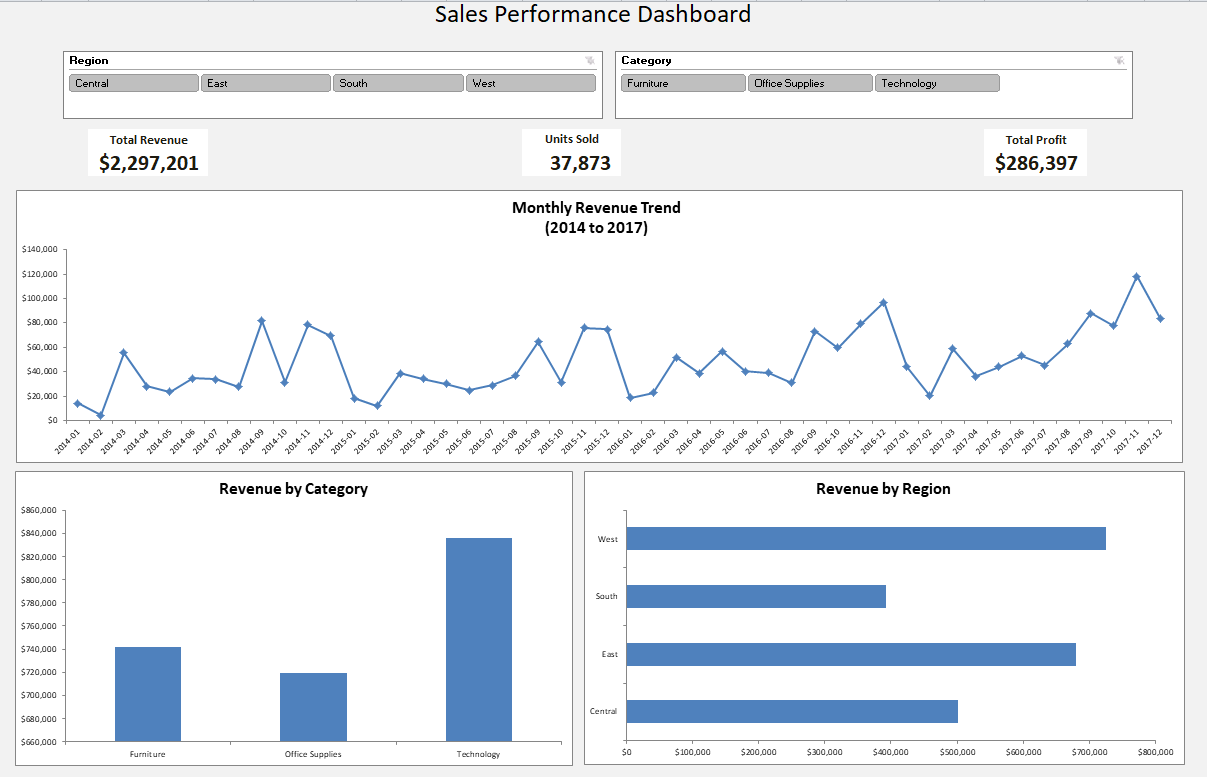

The dashboard page shown, as its layout file describes it:
{"tool":"powerbi","page":{"name":"Overview","canvas":[1920,1080],"ordinal":0},"visuals":[{"type":"textbox","box":[0,0,993,63.9],"z":0},{"type":"cardVisual","fields":{"Data":["_Measures.Total Revenue"]},"box":[254.4,98.9,250,250],"z":1000},{"type":"cardVisual","fields":{"Data":["_Measures.Total Profit"]},"box":[508.9,98.9,250,250],"z":2000},{"type":"cardVisual","fields":{"Data":["_Measures.Customers"]},"box":[1272.1,98.9,256.4,250.6],"z":3000},{"type":"cardVisual","fields":{"Data":["_Measures.Profit Margin %"]},"box":[763.3,98.9,250,250],"z":4000},{"type":"cardVisual","fields":{"Data":["_Measures.Orders"]},"box":[1017.7,98.9,250,250],"z":5000},{"type":"cardVisual","fields":{"Data":["_Measures.Avg Order Value"]},"box":[0,98.9,250,250],"z":6000},{"type":"clusteredBarChart","title":"Sales by Region","fields":{"Category":["dim_location.region"],"Y":["_Measures.Total Revenue"]},"box":[0,720.9,1144.9,358.1],"z":7000},{"type":"clusteredBarChart","title":"Top 10 Products","fields":{"Category":["dim_product.product_name"],"Y":["_Measures.Total Revenue"]},"box":[1147.3,351,772.7,728],"z":8000},{"type":"slicer","fields":{"Values":["dim_product.category"]},"box":[1580.8,197.9,301.5,73],"z":9000},{"type":"slicer","fields":{"Values":["dim_date.year"]},"box":[1580.8,117.8,299.2,73],"z":10000},{"type":"slicer","fields":{"Values":["dim_customer.segment"]},"box":[1580.8,280.3,299.2,70.7],"z":11000},{"type":"slicer","fields":{"Values":["dim_location.region"]},"box":[1580.8,28.3,299.2,70.7],"z":12000},{"type":"lineChart","title":"Monthly revenue and profit","fields":{"Category":["dim_date.year_month"],"Y":["_Measures.Total Revenue","_Measures.Total Profit"]},"box":[0,351,1144.9,358.1],"z":13000}]}

Visuals, with their boxes on the page's 1920x1080 design canvas (x1, y1, x2, y2). These are canvas units, not pixel positions in the 1207x777 screenshot, which may show the page scaled, cropped or inside an application window:
textbox: [0, 0, 993, 64]
cardVisual - _Measures.Total Revenue: [254, 99, 504, 349]
cardVisual - _Measures.Total Profit: [509, 99, 759, 349]
cardVisual - _Measures.Customers: [1272, 99, 1528, 350]
cardVisual - _Measures.Profit Margin %: [763, 99, 1013, 349]
cardVisual - _Measures.Orders: [1018, 99, 1268, 349]
cardVisual - _Measures.Avg Order Value: [0, 99, 250, 349]
"Sales by Region" clusteredBarChart: [0, 721, 1145, 1079]
"Top 10 Products" clusteredBarChart: [1147, 351, 1920, 1079]
slicer - dim_product.category: [1581, 198, 1882, 271]
slicer - dim_date.year: [1581, 118, 1880, 191]
slicer - dim_customer.segment: [1581, 280, 1880, 351]
slicer - dim_location.region: [1581, 28, 1880, 99]
"Monthly revenue and profit" lineChart: [0, 351, 1145, 709]
